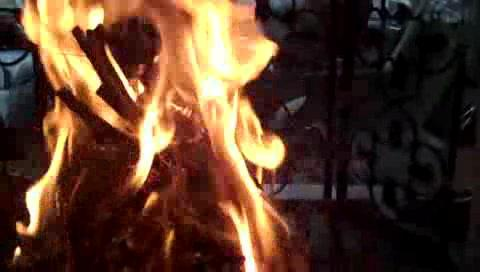fire: (24, 0, 266, 272)
